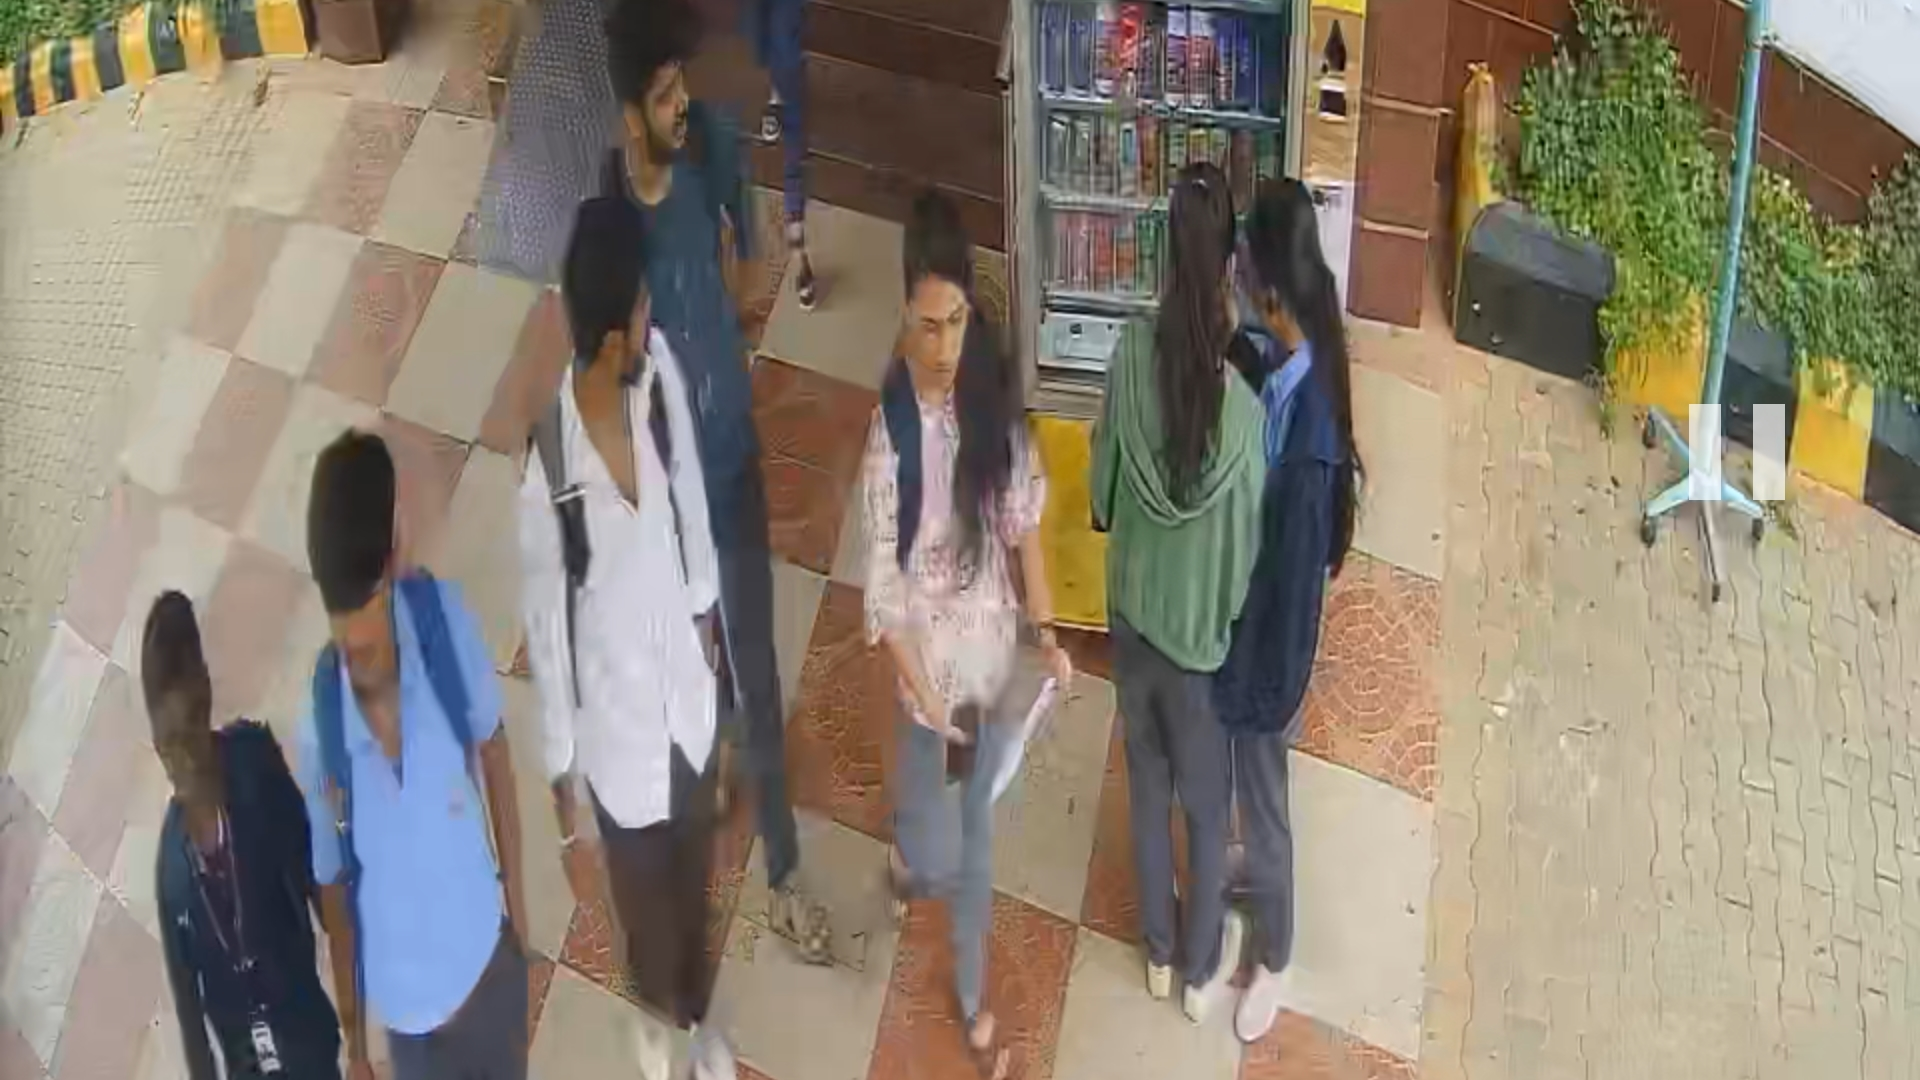intruder: (541, 202, 750, 1059), (839, 190, 1040, 1080), (616, 37, 812, 886), (295, 433, 546, 1080)
not intruder: (109, 578, 323, 1080)
